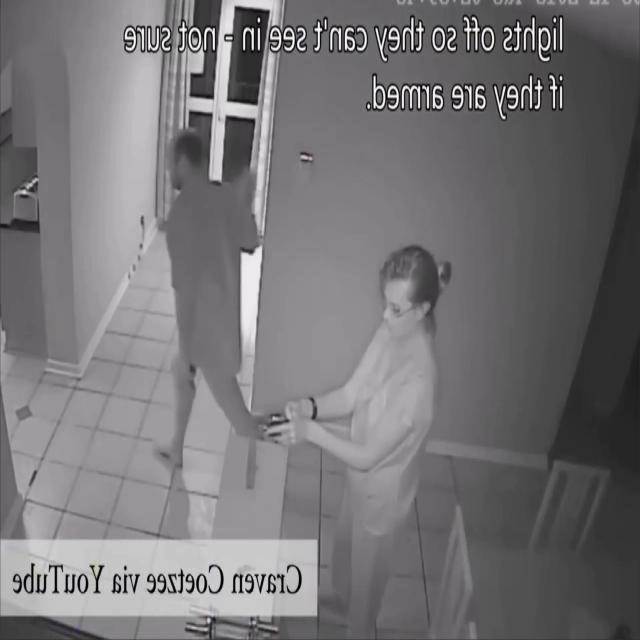weapon: (254, 409, 300, 445)
